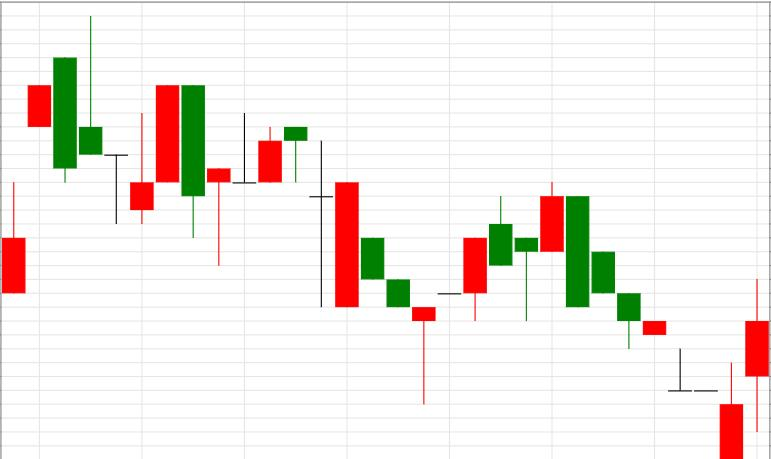inverse_hammer_rise: (53, 16, 154, 224)
